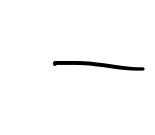minus: (51, 57, 144, 75)
